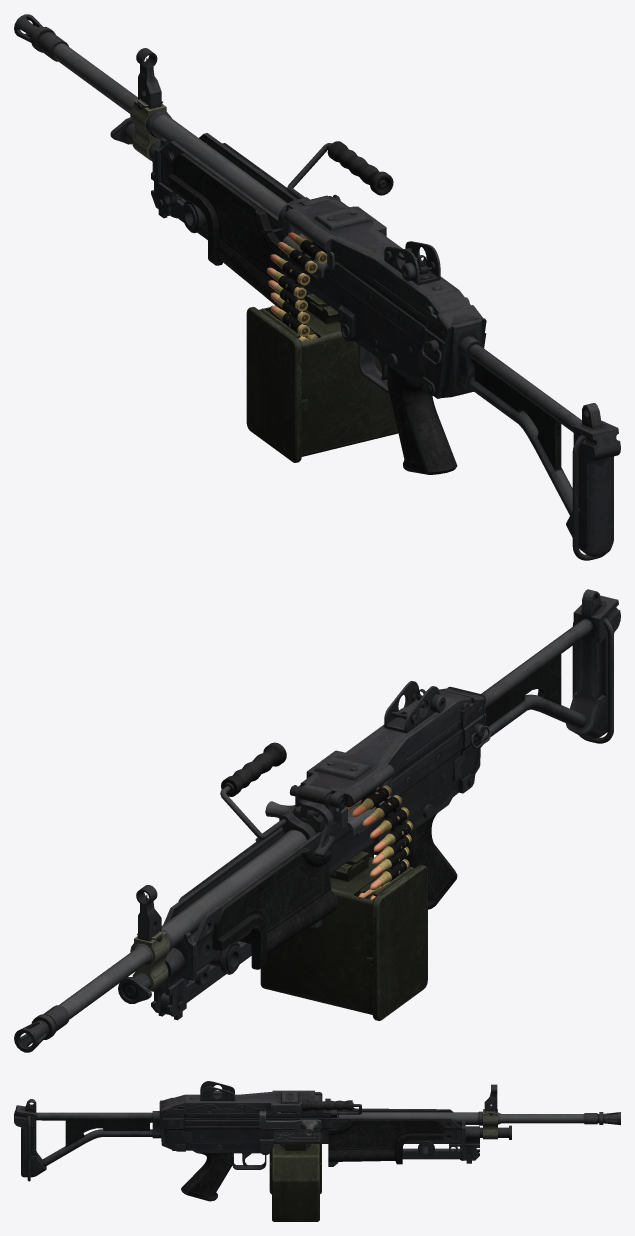
3 views of the same model, one above another, from view 1: azimuth 30°, elevation 25°; view 2: azimuth 150°, elevation 25°; view 3: azimuth 270°, elevation 25° (orthographic). The views are drawn at different scales.
Parts seen in each view (by area): view 1: body, magazine, cover; view 2: body, magazine, cover; view 3: body, magazine, cover, chargingHandle.
Boxes of the visible parts, bbox=[...] form: body: bbox=[14, 14, 620, 560]; magazine: bbox=[246, 232, 398, 462]; cover: bbox=[284, 194, 470, 316]; body: bbox=[14, 589, 620, 1052]; magazine: bbox=[260, 785, 427, 1020]; cover: bbox=[290, 681, 471, 808]; body: bbox=[14, 1084, 620, 1201]; magazine: bbox=[269, 1112, 321, 1221]; cover: bbox=[172, 1081, 322, 1115]; chargingHandle: bbox=[259, 1111, 321, 1135].
Bounding box in the file's own units: 0.1303 × 0.2338 × 1.01.
1 material, 1 textured.
